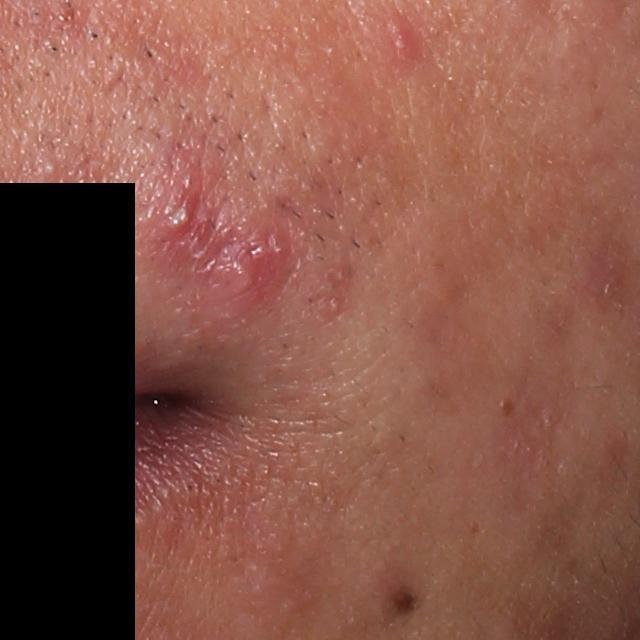comedo: (41, 159, 64, 177)
nevus: (378, 576, 430, 625)
papule: (203, 227, 289, 301), (385, 20, 416, 64)
